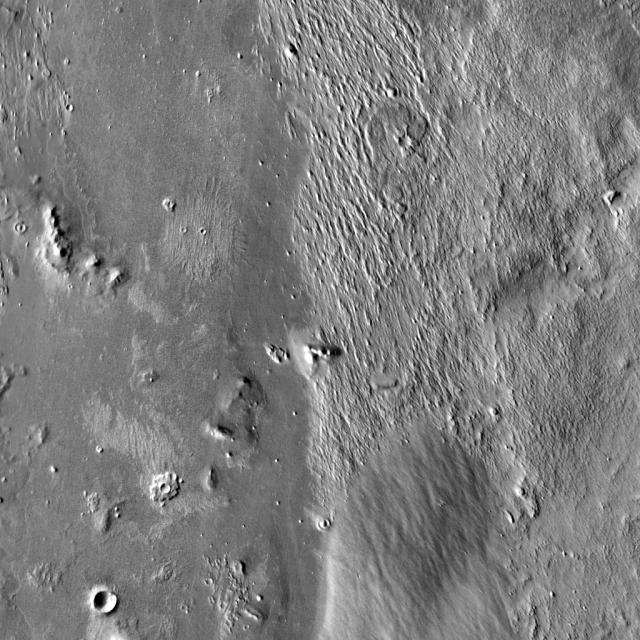crater: (97, 591, 120, 614), (401, 137, 414, 149), (322, 520, 332, 531), (18, 225, 28, 235), (165, 486, 173, 494), (216, 596, 223, 604), (38, 66, 46, 72), (272, 344, 278, 351), (63, 100, 69, 106), (202, 574, 208, 580)
